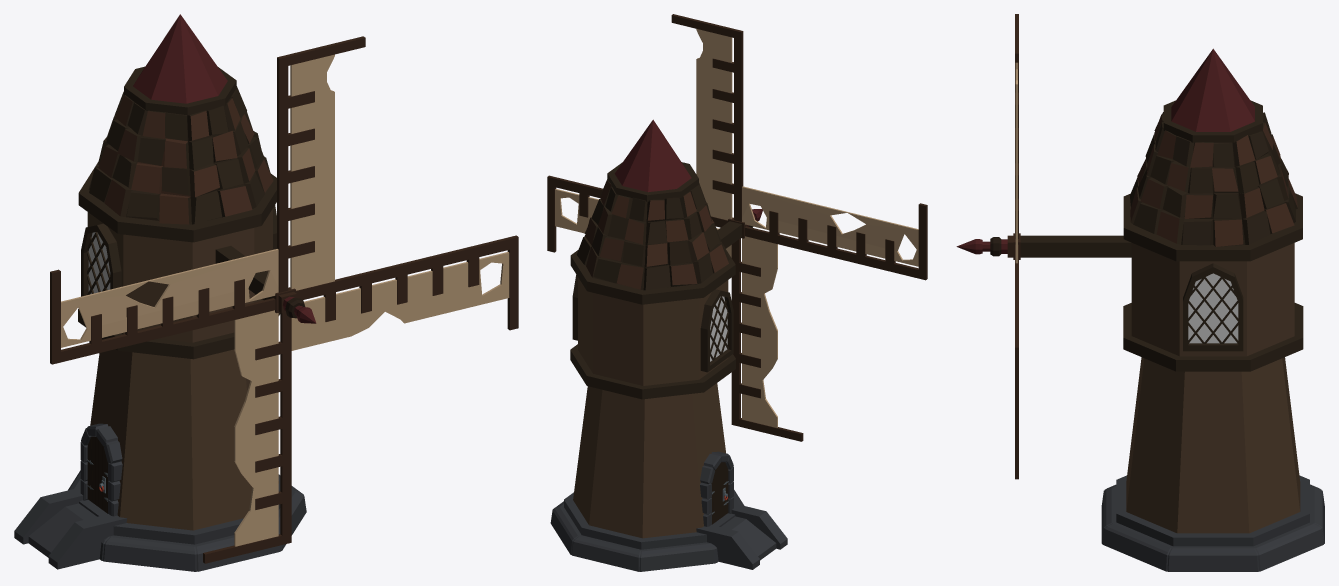
The model's file is SM_hous_05_B.gltf.
The picture shows the model from 3 angles, left to right: view 1: azimuth 30°, elevation 25°; view 2: azimuth 150°, elevation 25°; view 3: azimuth 270°, elevation 25°; orthographic projection. The views are drawn at different scales.
Parts seen in each view (by area): view 1: SM_hous_05_B, SM_Screw_01_B; view 2: SM_hous_05_B, SM_Screw_01_B; view 3: SM_hous_05_B, SM_Screw_01_B.
Boxes of the visible parts, bbox=[...] form: SM_hous_05_B: bbox=[14, 14, 306, 571]; SM_Screw_01_B: bbox=[50, 36, 518, 563]; SM_hous_05_B: bbox=[550, 119, 787, 571]; SM_Screw_01_B: bbox=[547, 14, 927, 441]; SM_hous_05_B: bbox=[1020, 48, 1324, 571]; SM_Screw_01_B: bbox=[956, 14, 1020, 479].
Size of the model in its own units: 13.19 by 14.54 by 9.56.
